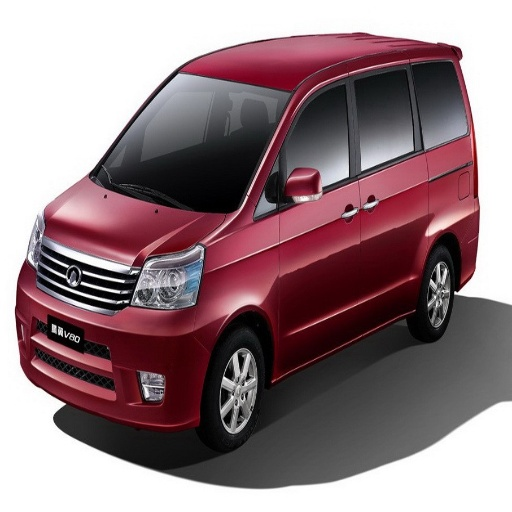front_bumper: (19, 292, 224, 426)
front_glass: (89, 72, 291, 210)
front_left_door: (257, 76, 372, 368)
